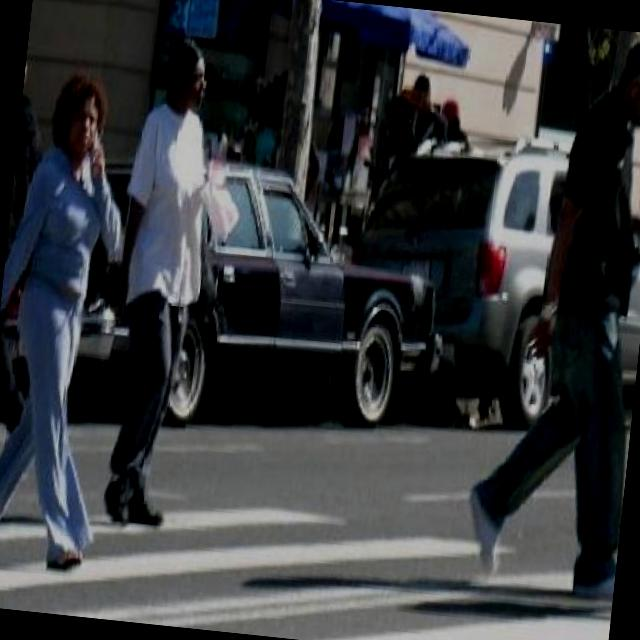Person: (458, 19, 640, 604), (95, 20, 252, 532), (0, 68, 134, 571)
